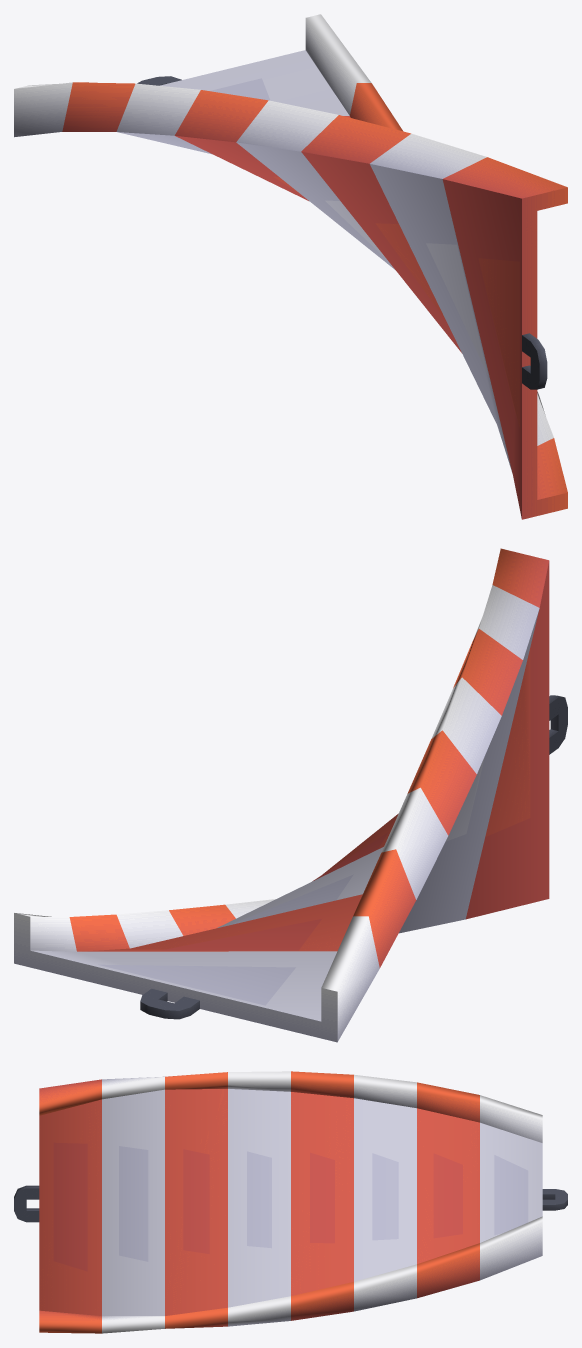
File: track-striped-wide-straight-skew-left-side.glb
3 renders of one model, top to bottom at view 1: azimuth 30°, elevation 25°; view 2: azimuth 150°, elevation 25°; view 3: azimuth 270°, elevation 25°, orthographic. The views are drawn at different scales.
Visible parts, largest first — view 1: track-striped-wide-straight-skew-left-side; view 2: track-striped-wide-straight-skew-left-side; view 3: track-striped-wide-straight-skew-left-side.
Boxes of the visible parts, x1,y1,x2,y2 form: track-striped-wide-straight-skew-left-side: (14,14,567,519); track-striped-wide-straight-skew-left-side: (14,548,567,1042); track-striped-wide-straight-skew-left-side: (14,1071,567,1333).
Size of the model in its own units: 6.13 by 6.13 by 13.2.
Materials: 1 (1 with a texture image).
